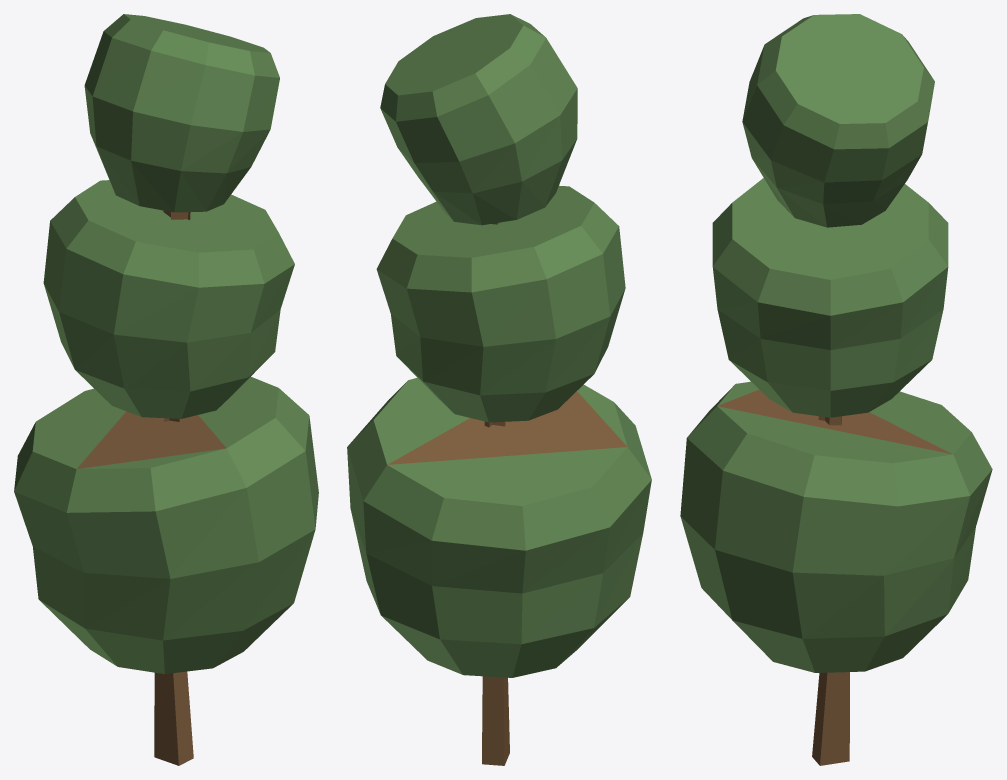
Rendered from tree3d-014.glb.
3 renders of one model, left to right at view 1: azimuth 30°, elevation 25°; view 2: azimuth 150°, elevation 25°; view 3: azimuth 270°, elevation 25°, orthographic.
Parts seen in each view (by area): view 1: tree3d-014; view 2: tree3d-014; view 3: tree3d-014.
Part boxes in pixels (box(x1,y1,x2,y2)): tree3d-014: box(14, 14, 318, 765); tree3d-014: box(347, 14, 651, 765); tree3d-014: box(680, 14, 992, 765).
Size of the model in its own units: 0.3729 by 1 by 0.385.
